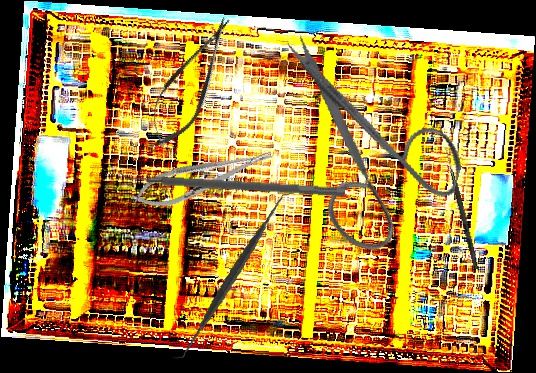Hook Surgical: (441, 146, 481, 270)
Iris Scissors: (236, 31, 485, 269)
Micro Scissor: (136, 7, 246, 157)
Needle Holder: (127, 138, 278, 217)
Spatula Surgical: (152, 191, 315, 360), (118, 166, 346, 197)
